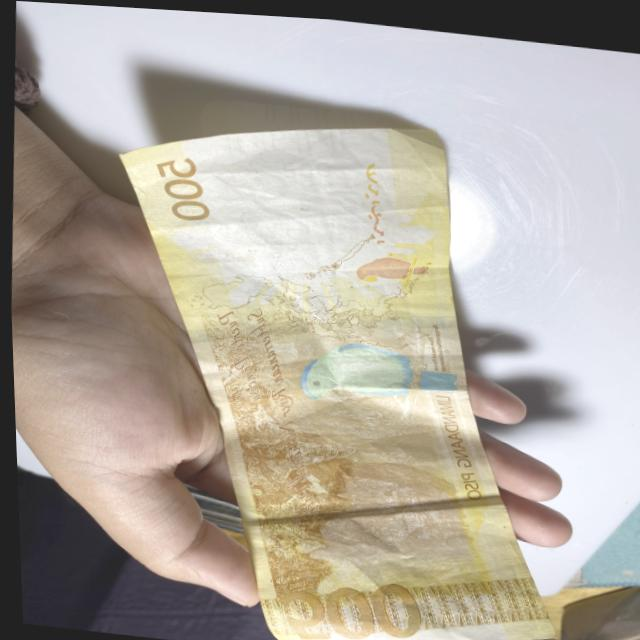500_big_parrot: (288, 326, 459, 415)
500_parrot_watermark: (350, 245, 433, 291)
value_watermark: (282, 151, 337, 180)
